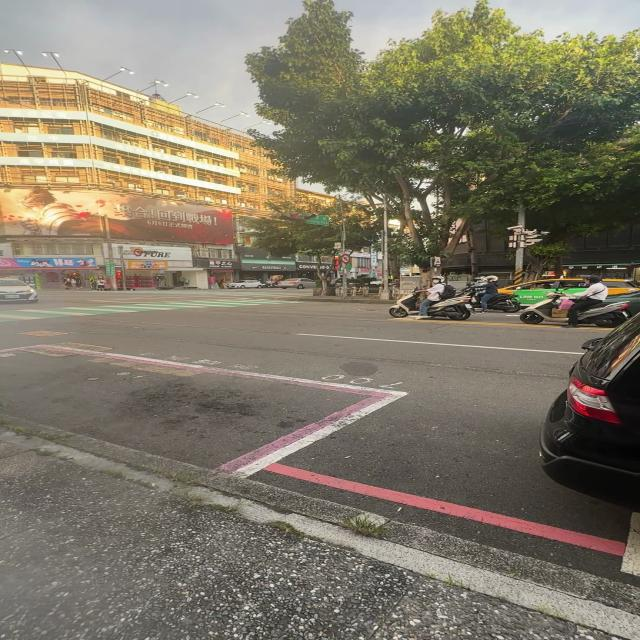car: (499, 278, 587, 306), (602, 279, 640, 295), (278, 279, 315, 289), (227, 280, 262, 289)
crosswalk: (0, 298, 323, 322), (71, 291, 314, 298)
motocycle: (580, 301, 631, 328), (518, 298, 567, 324), (428, 296, 472, 320), (388, 292, 421, 318), (488, 294, 521, 312)
